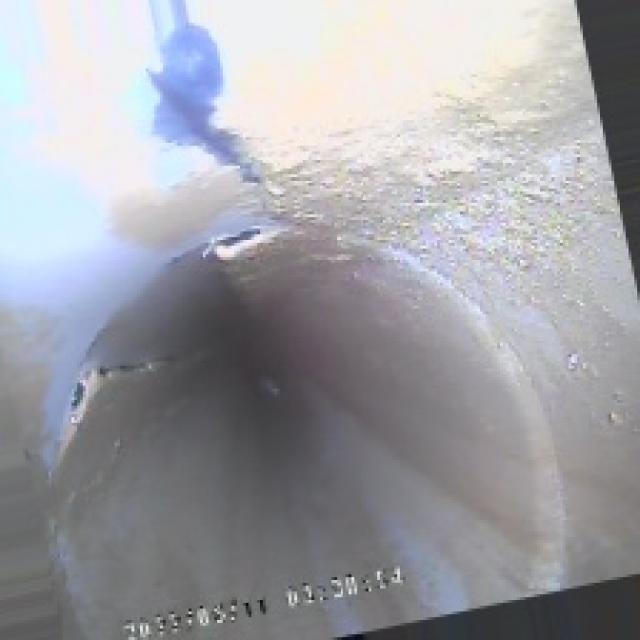pipe_surface_damage: (37, 212, 309, 408)
